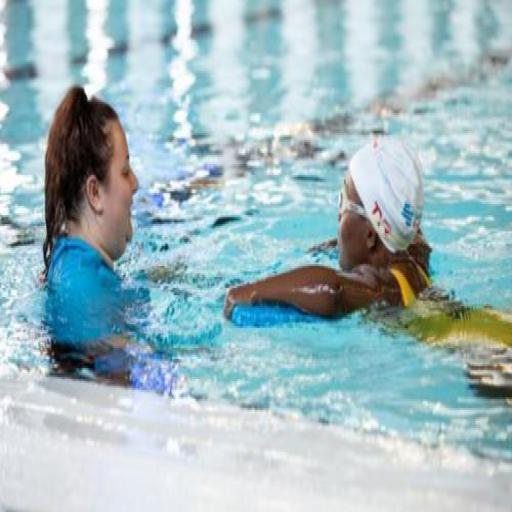swimming: (221, 131, 435, 328)
